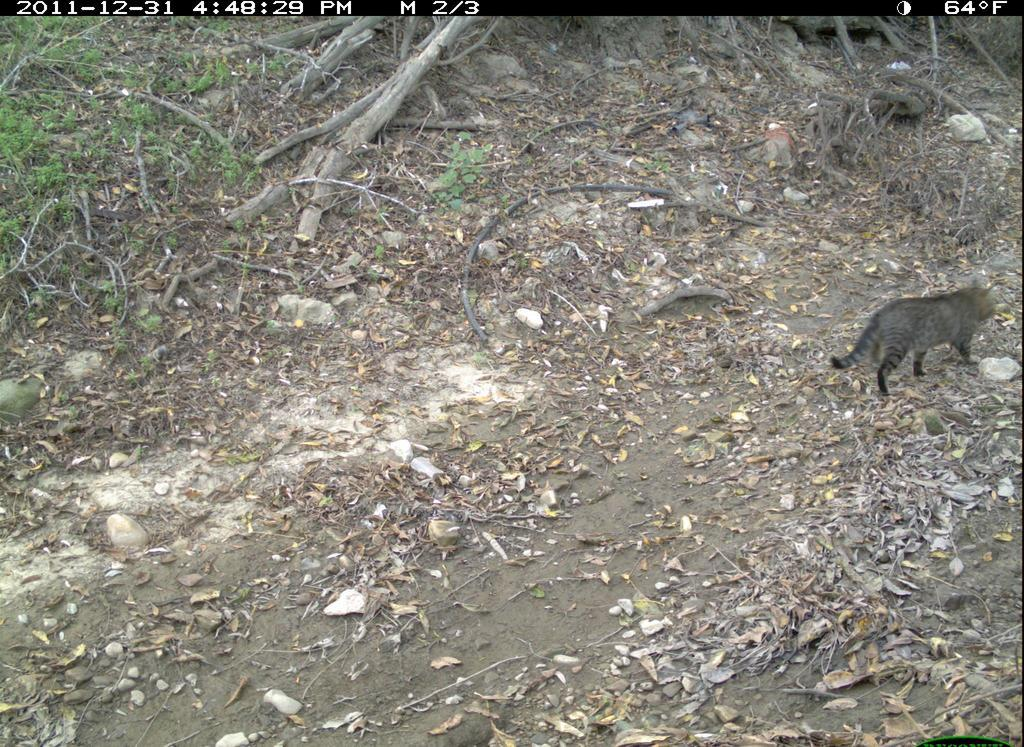cat: (822, 272, 1005, 415)
